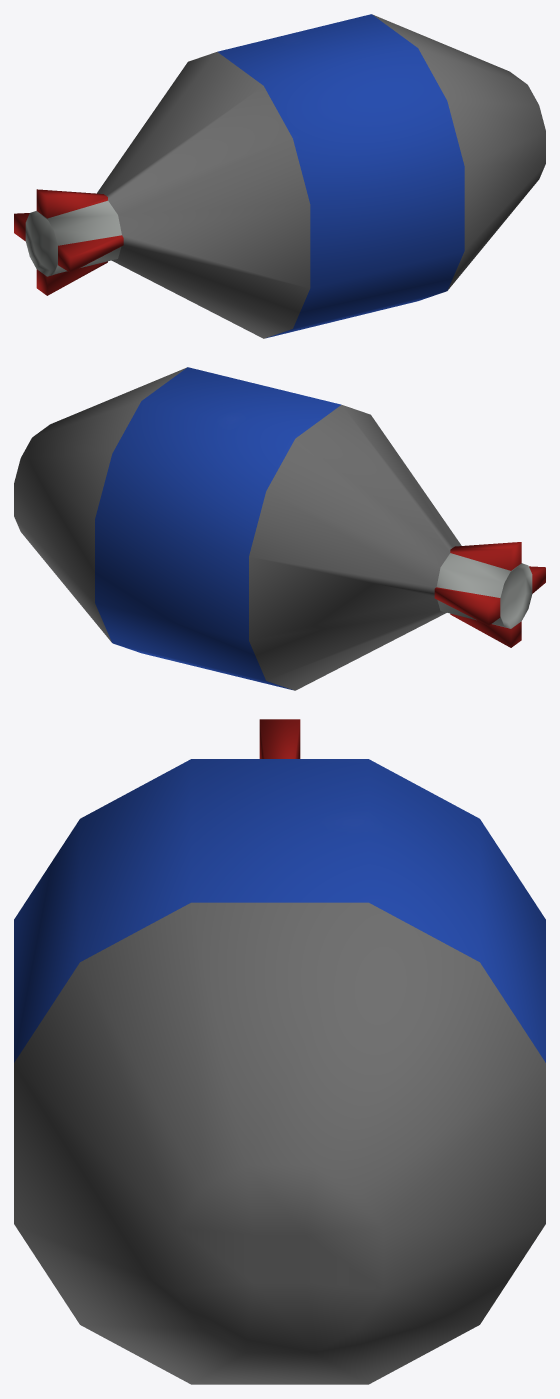
The model's file is rocket.fbx.
3 renders of one model, top to bottom at view 1: azimuth 30°, elevation 25°; view 2: azimuth 150°, elevation 25°; view 3: azimuth 270°, elevation 25°, orthographic. The views are drawn at different scales.
Parts seen in each view (by area): view 1: rocket; view 2: rocket; view 3: rocket.
Boxes of the visible parts, bbox=[...] form: rocket: bbox=[14, 14, 545, 338]; rocket: bbox=[14, 367, 545, 690]; rocket: bbox=[14, 719, 545, 1384].
Bounding box in the file's own units: 0.5084 × 0.2575 × 0.2575.
